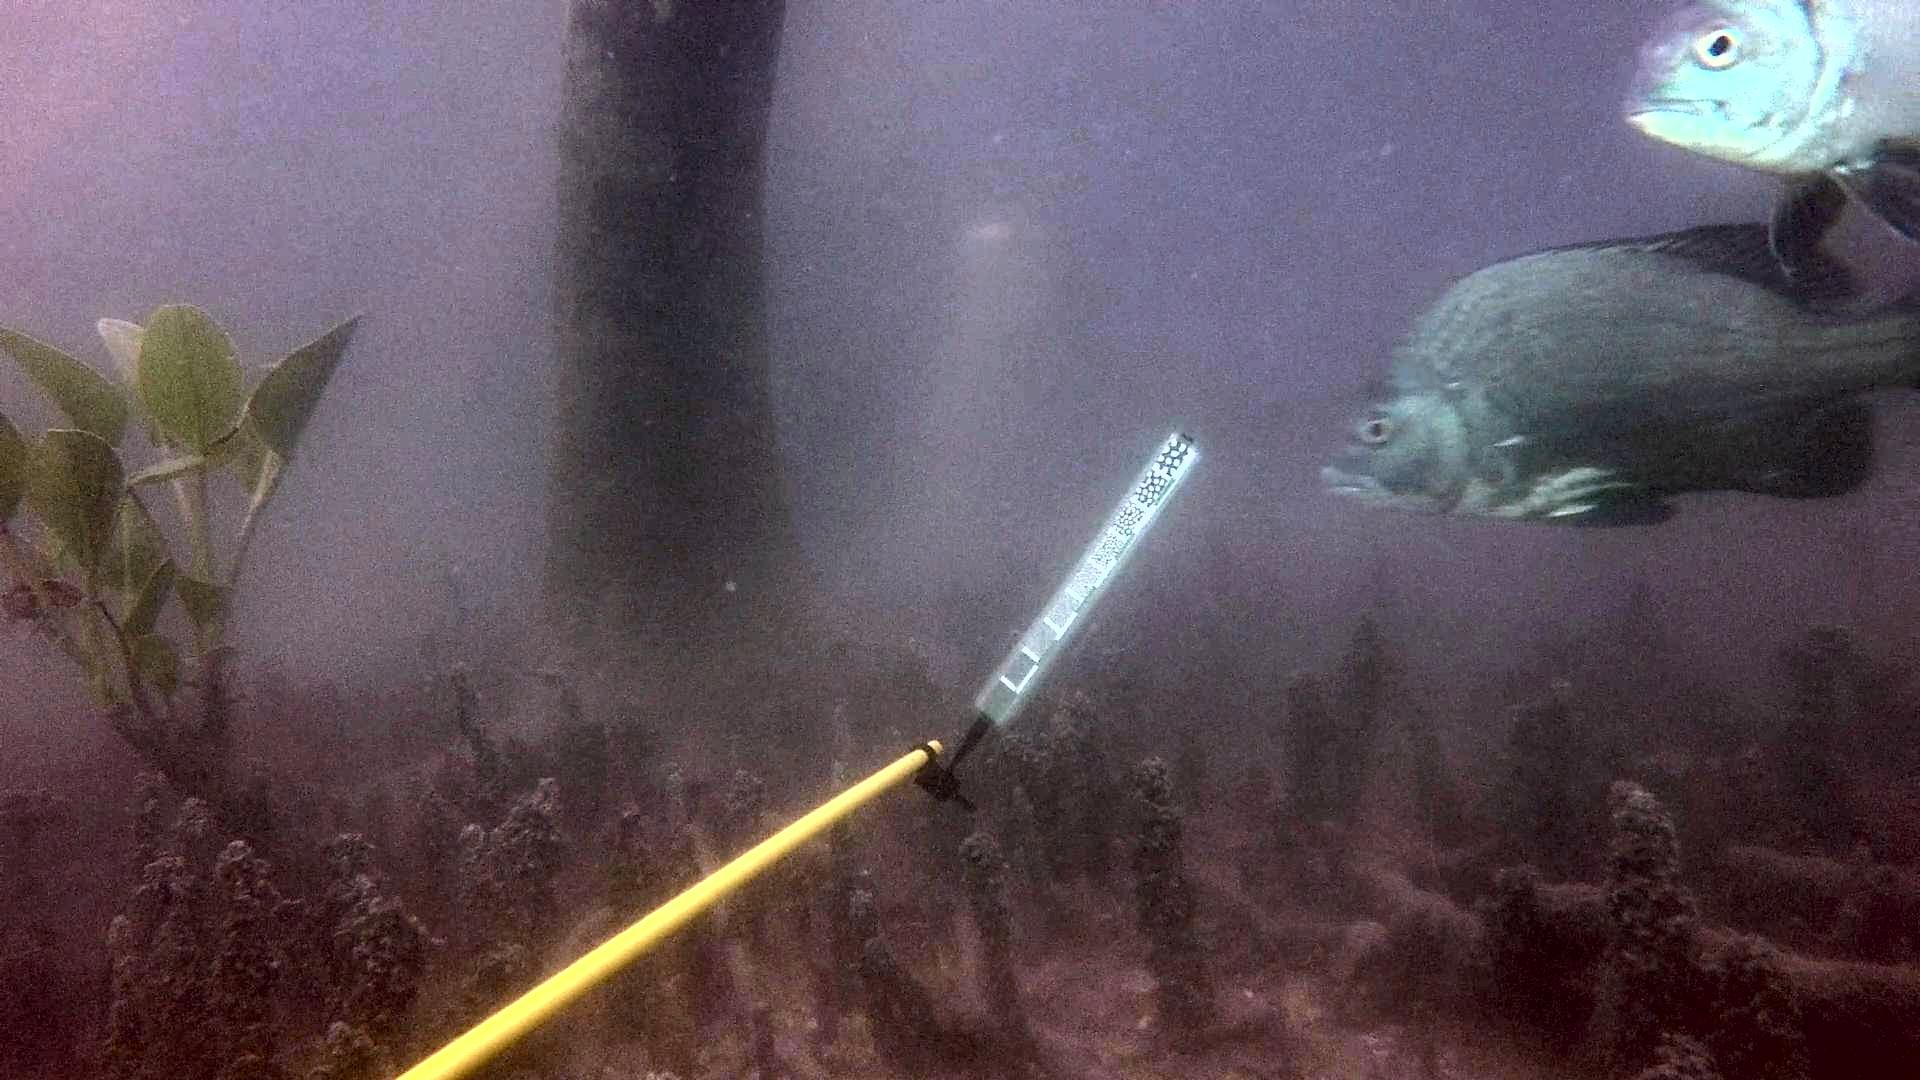acanthopagrus palmaris: (1308, 211, 1920, 543), (1615, 0, 1920, 302)
